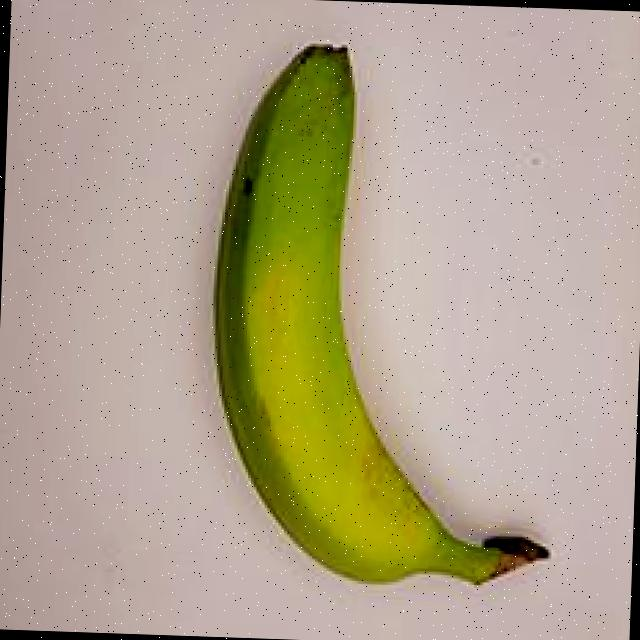Unripe: (188, 28, 584, 627)
